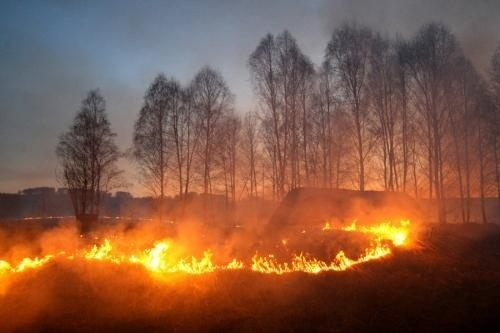fire: (27, 206, 444, 287)
